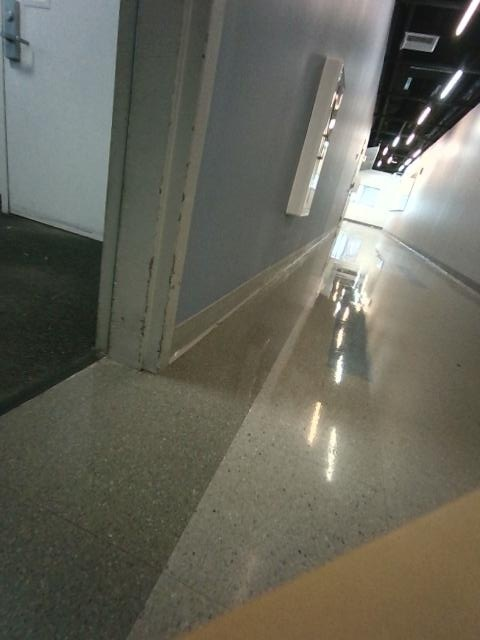ball: (286, 57, 343, 215)
